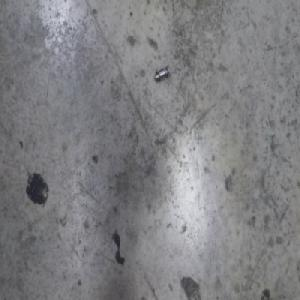Bolt: (154, 64, 170, 83)
